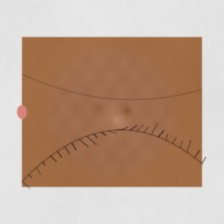hemorrhage_spot: (39, 64, 117, 126)
